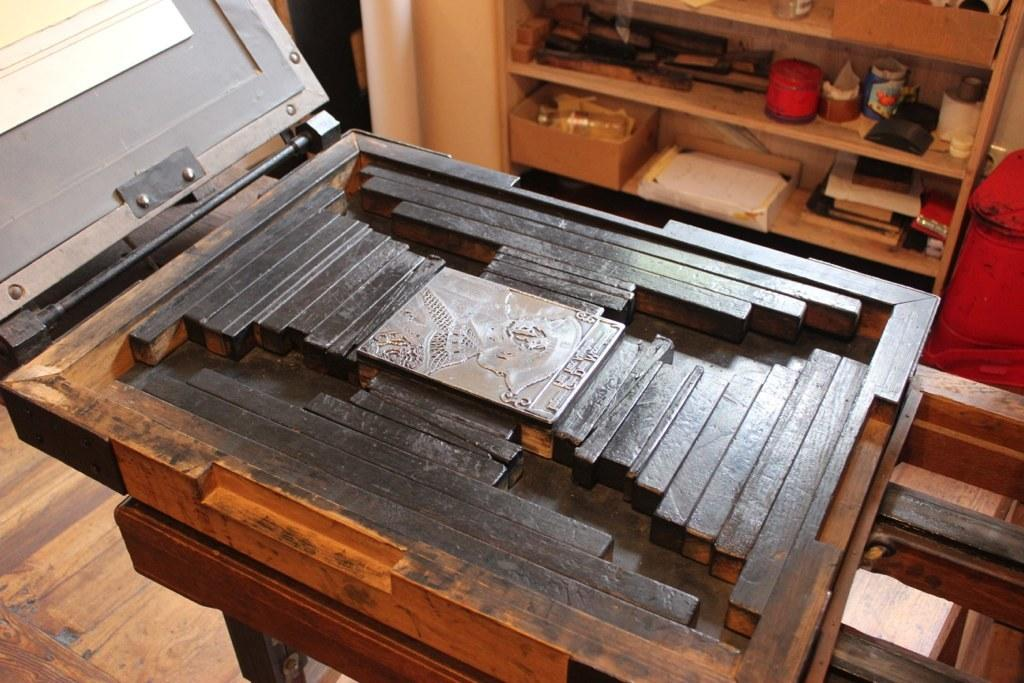Computer-monitor: (0, 0, 335, 353)
